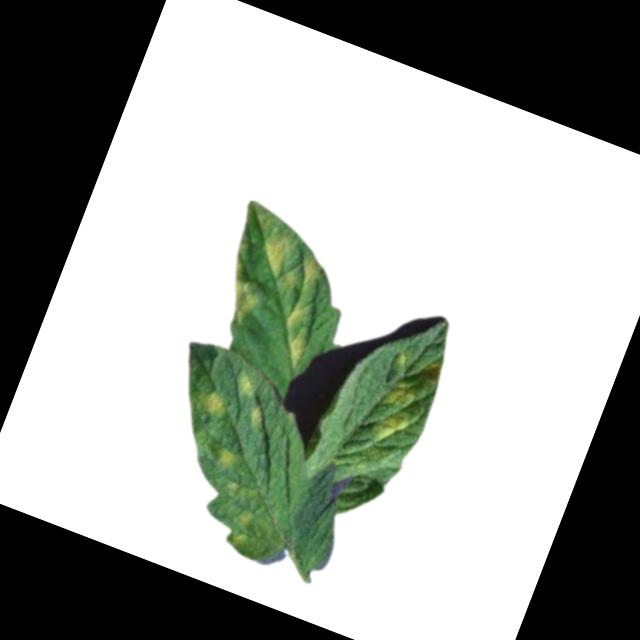Leaf_Mold: (254, 232, 327, 296), (212, 259, 271, 328), (368, 372, 422, 446), (272, 303, 319, 367), (210, 441, 245, 474), (202, 390, 230, 421), (232, 371, 259, 398), (249, 402, 269, 427)
